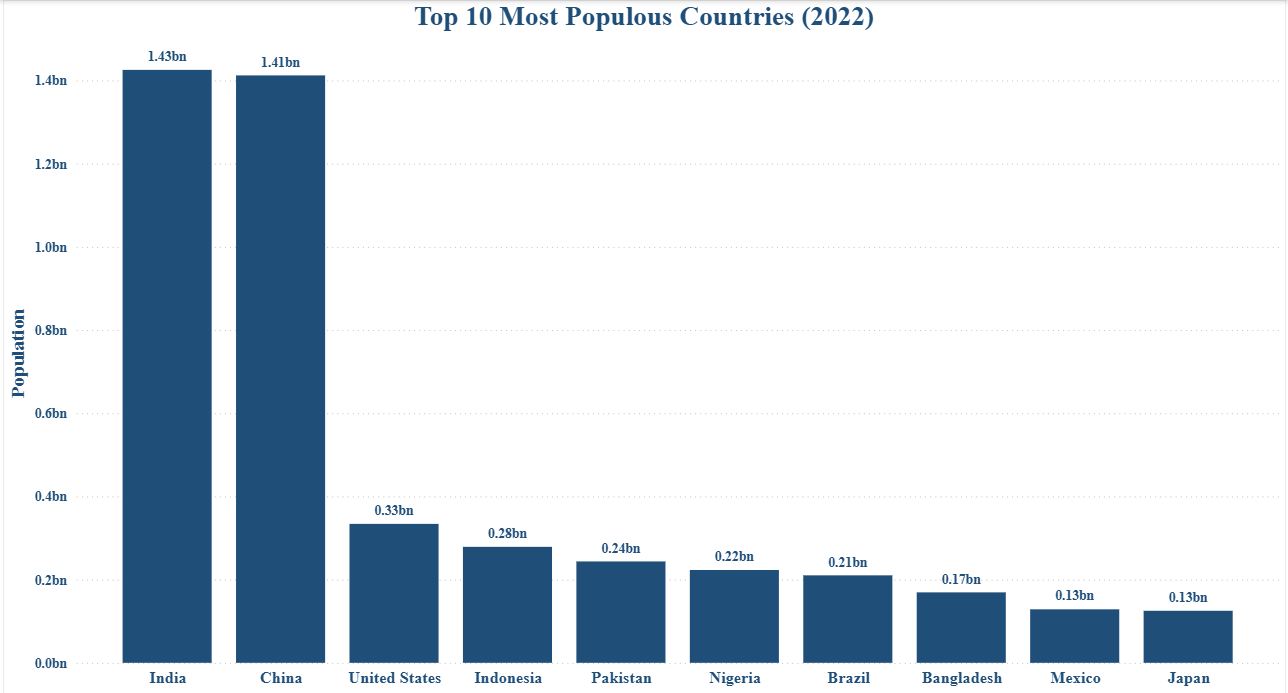

The page's visual inventory and layout, read from the dashboard file:
{"tool":"powerbi","page":{"name":"Page 1","canvas":[1280,720],"ordinal":0},"visuals":[{"type":"clusteredColumnChart","title":"Top 10 Most Populous Countries (2022)","fields":{"Category":["Data.Country Name"],"Y":["Sum(Data.2022)"]},"box":[9.6,0,1254.2,680.6],"z":0}]}

Visuals, with their boxes in screenshot pixels (x1, y1, x2, y2):
"Top 10 Most Populous Countries (2022)" clusteredColumnChart: 120 13 1287 661
